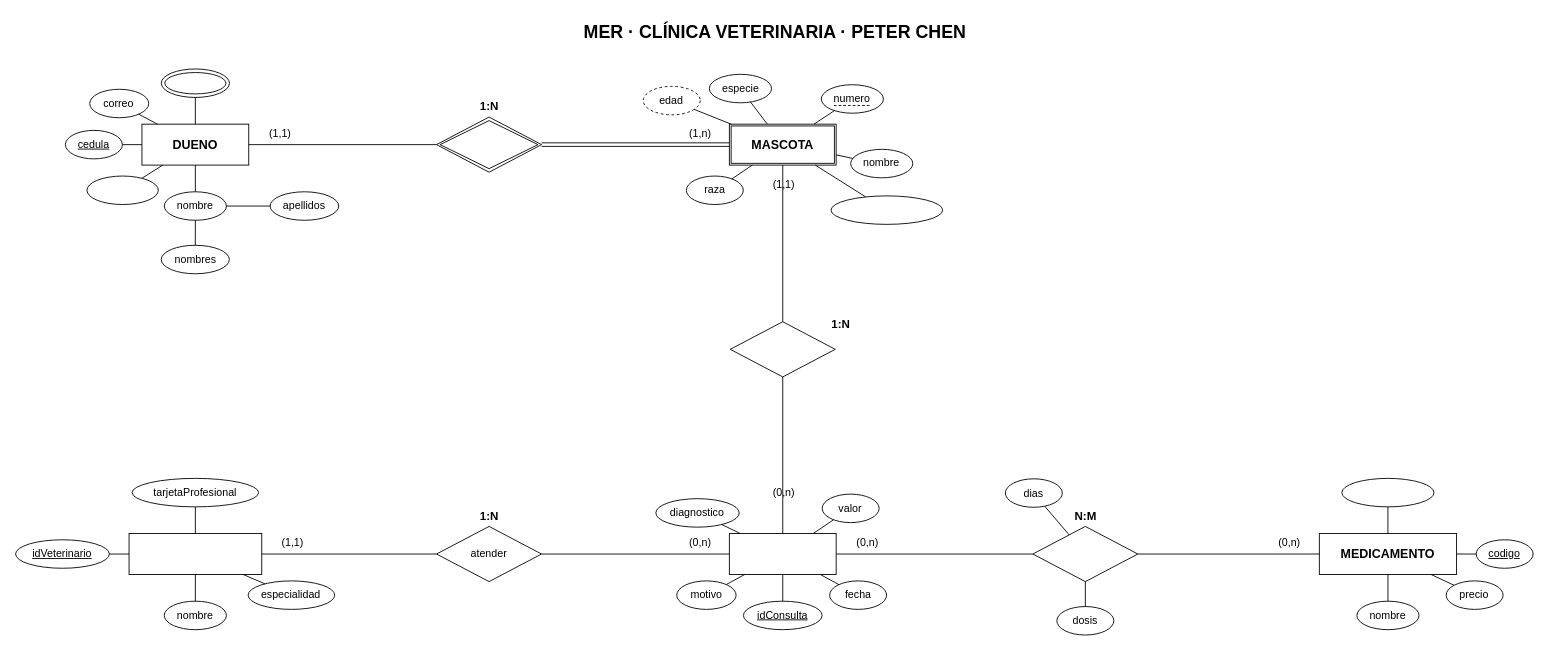
The diagram is 1549 pixels wide and 651 high, and some of its shapes have lost their labels. The shapes that lost their labels are listed below. From the top down, each one's centre as x and y in pixels, then its label:
pixel 194 82: telefono
pixel 489 144: tener
pixel 122 190: direccion
pixel 886 209: fechaNacimiento
pixel 782 349: recibir
pixel 1387 492: presentacion
pixel 195 553: VETERINARIO
pixel 782 553: CONSULTA
pixel 1085 554: recetar
